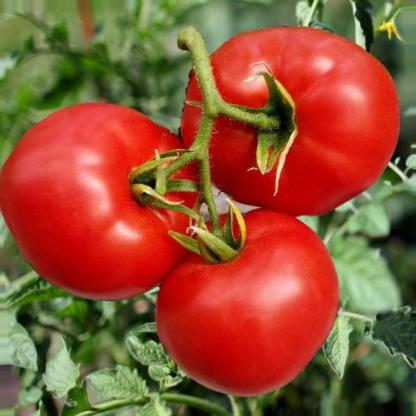tomato: (142, 196, 372, 404), (186, 21, 414, 224), (0, 88, 196, 312)
